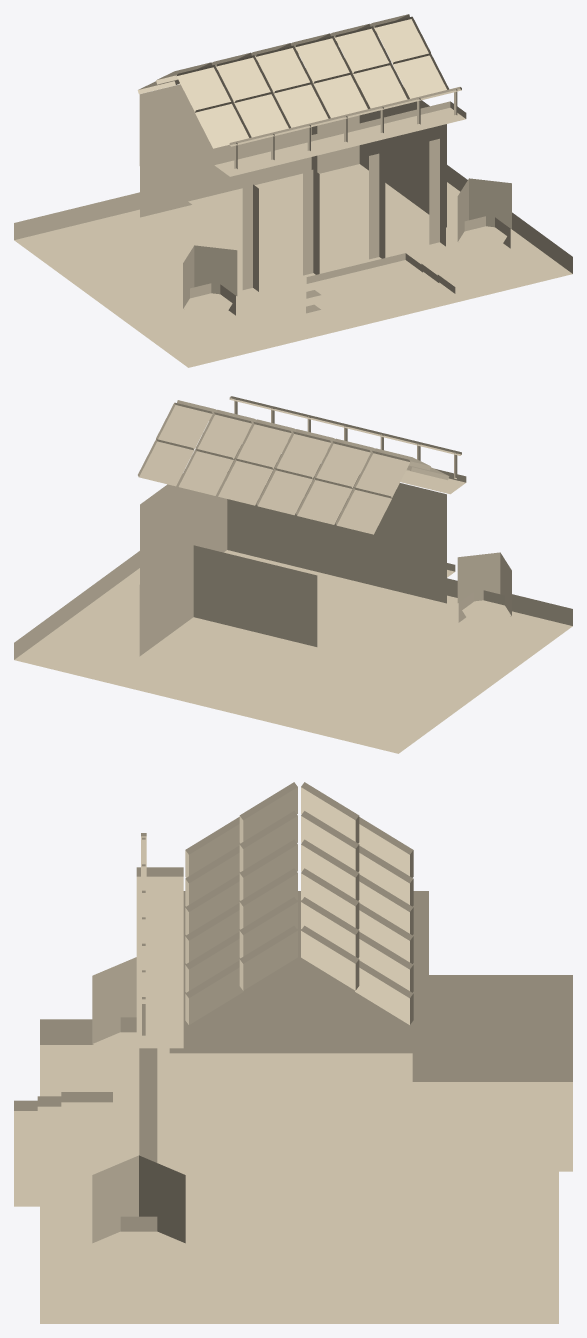
File: xinba-pavilion-active.glb
The picture shows the model from 3 angles, top to bottom: view 1: azimuth 30°, elevation 25°; view 2: azimuth 150°, elevation 25°; view 3: azimuth 270°, elevation 25°; orthographic projection. The views are drawn at different scales.
Visible parts, largest first — view 1: Xinba Pavilion Active; view 2: Xinba Pavilion Active; view 3: Xinba Pavilion Active.
Boxes of the visible parts, bbox=[...] form: Xinba Pavilion Active: bbox=[14, 14, 572, 367]; Xinba Pavilion Active: bbox=[14, 396, 572, 753]; Xinba Pavilion Active: bbox=[14, 782, 572, 1323].
Bounding box in the file's own units: 14 × 7.42 × 11.85.
